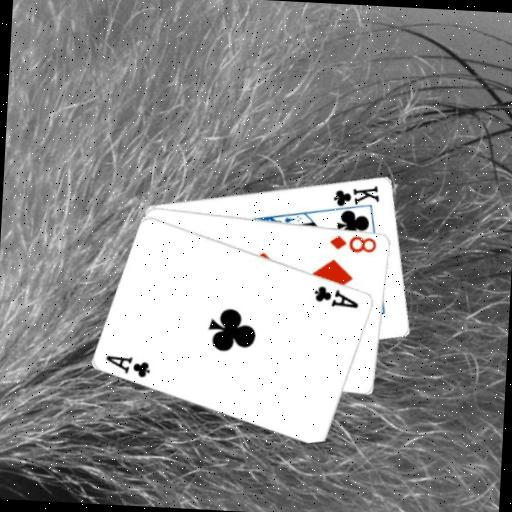8D: (326, 231, 379, 255)
AC: (102, 352, 153, 380), (311, 282, 361, 310)
KC: (327, 180, 382, 215)
